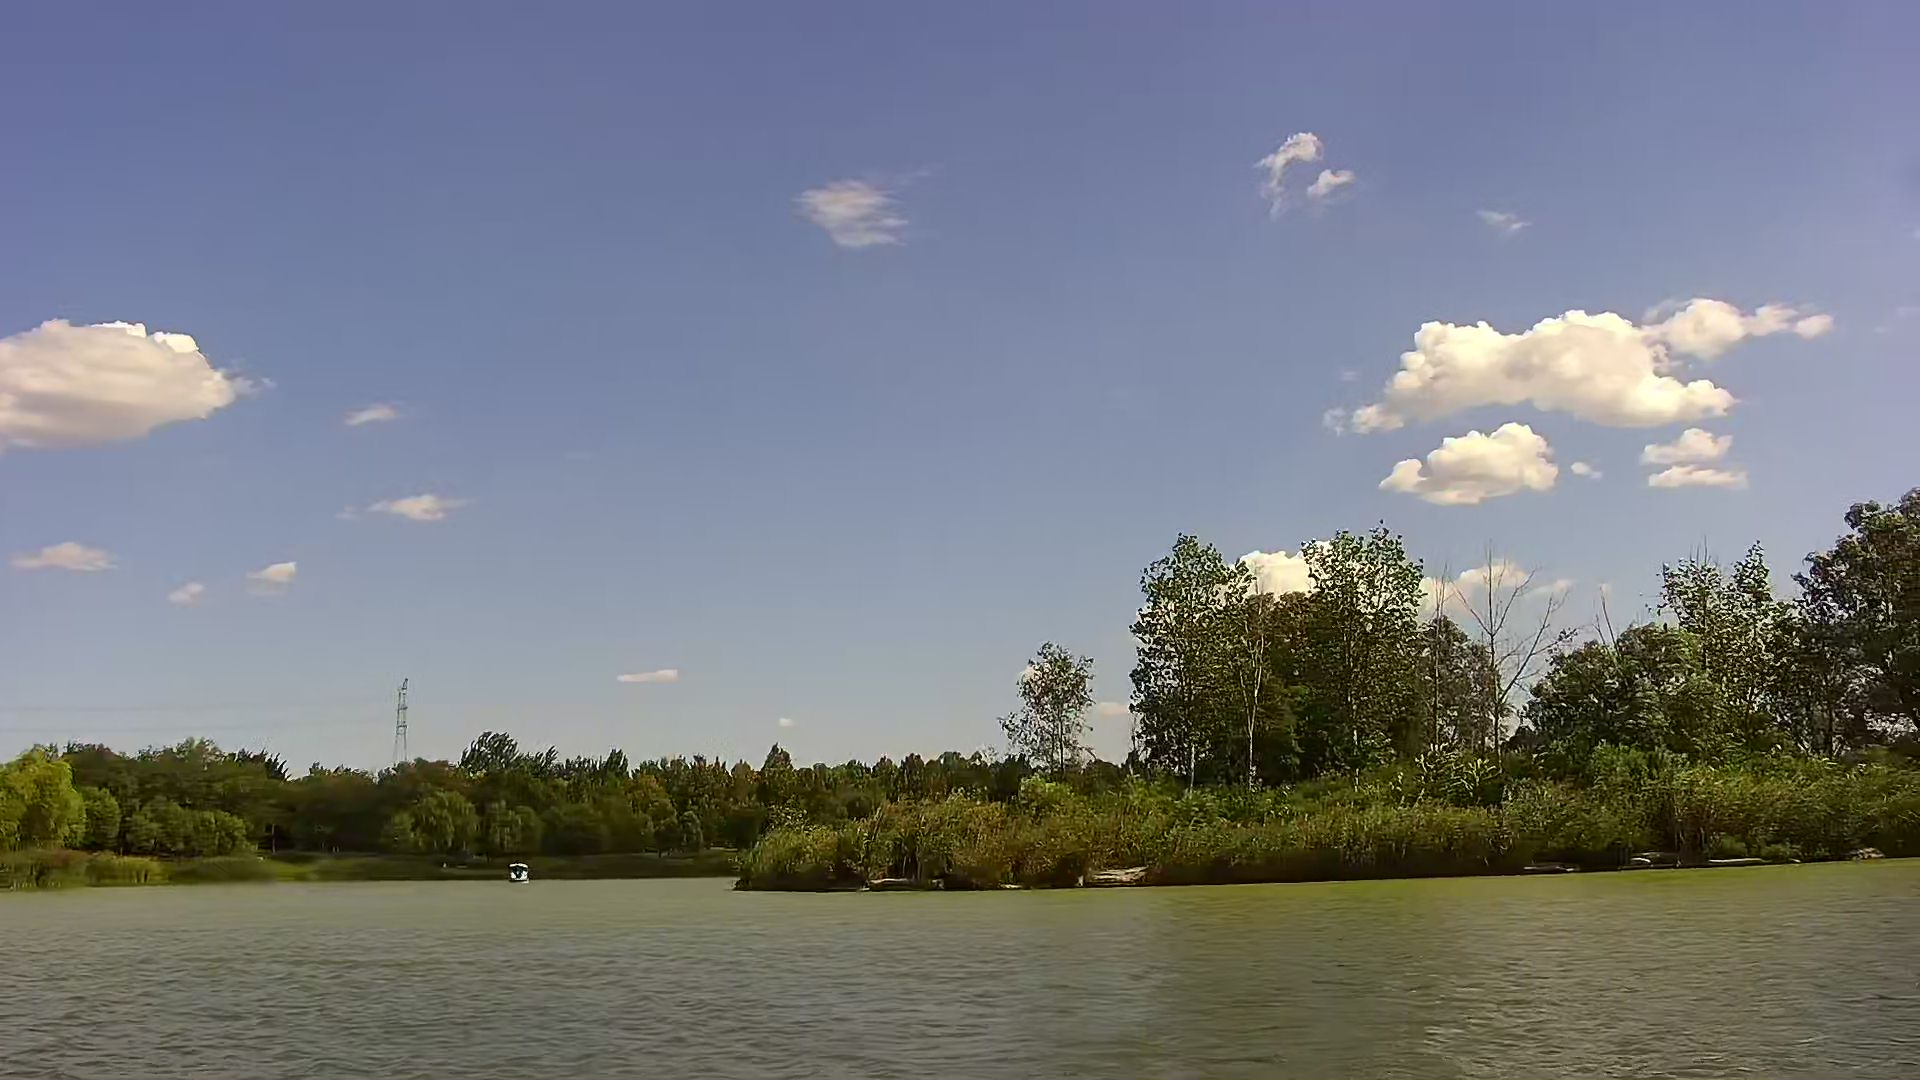rock: (1073, 866, 1155, 887), (858, 872, 931, 891)
